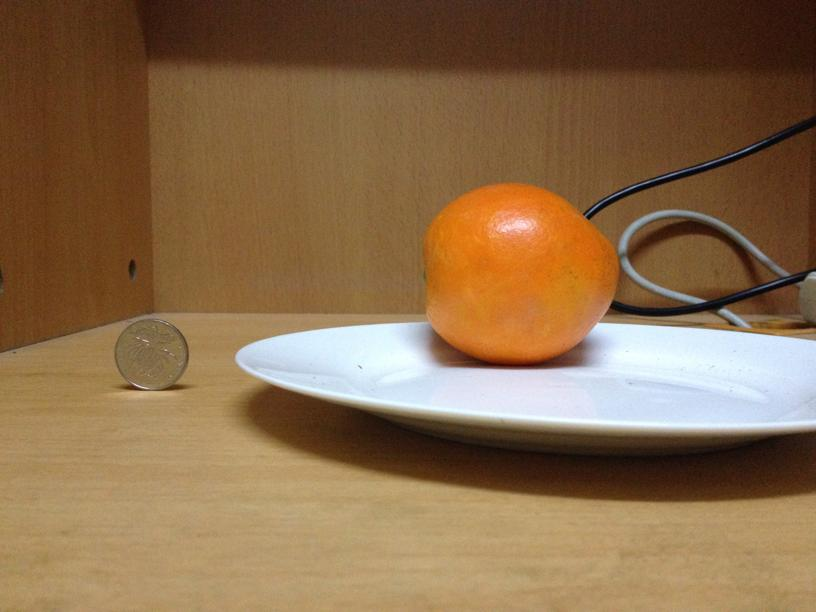coin: (114, 320, 190, 390)
orange: (419, 181, 620, 361)
